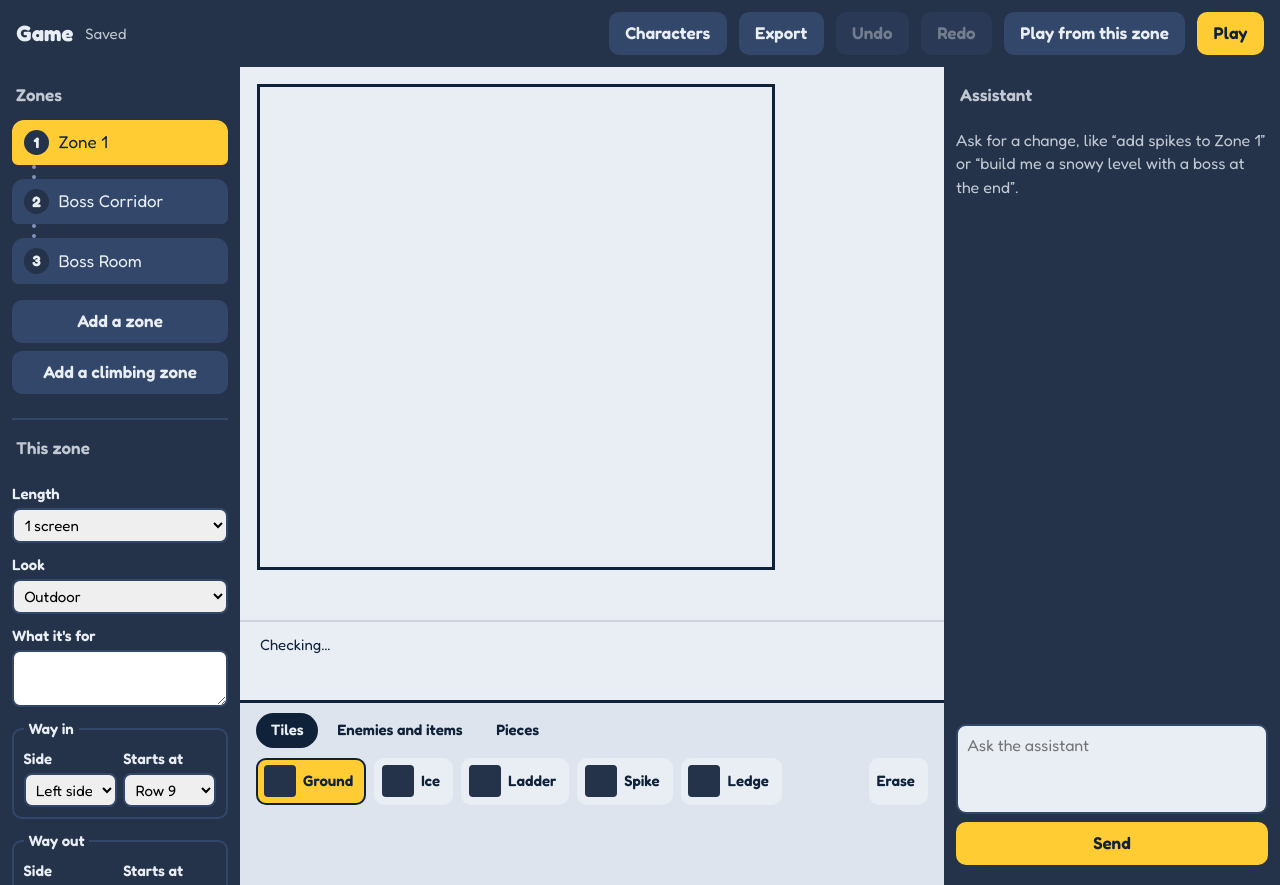
Scenario: the save status tells the truth › goes back to Saved when a change is undone before it is saved
Click the button "Add a zone" at (120,321), box [12, 300, 228, 343]
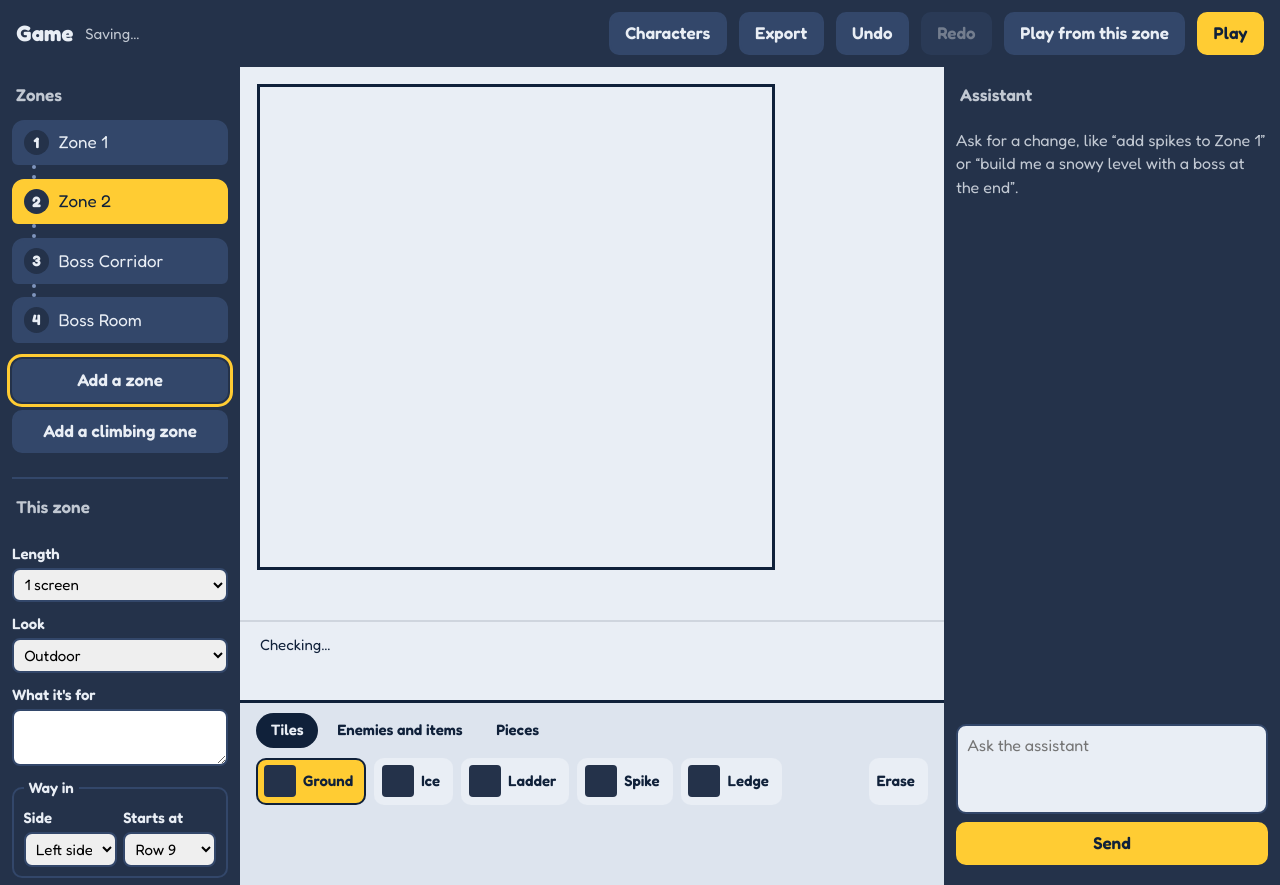
Check: the text "Saving…" is shown, box [85, 23, 139, 44]
Click the button "Undo" at (872,34), box [836, 12, 909, 55]
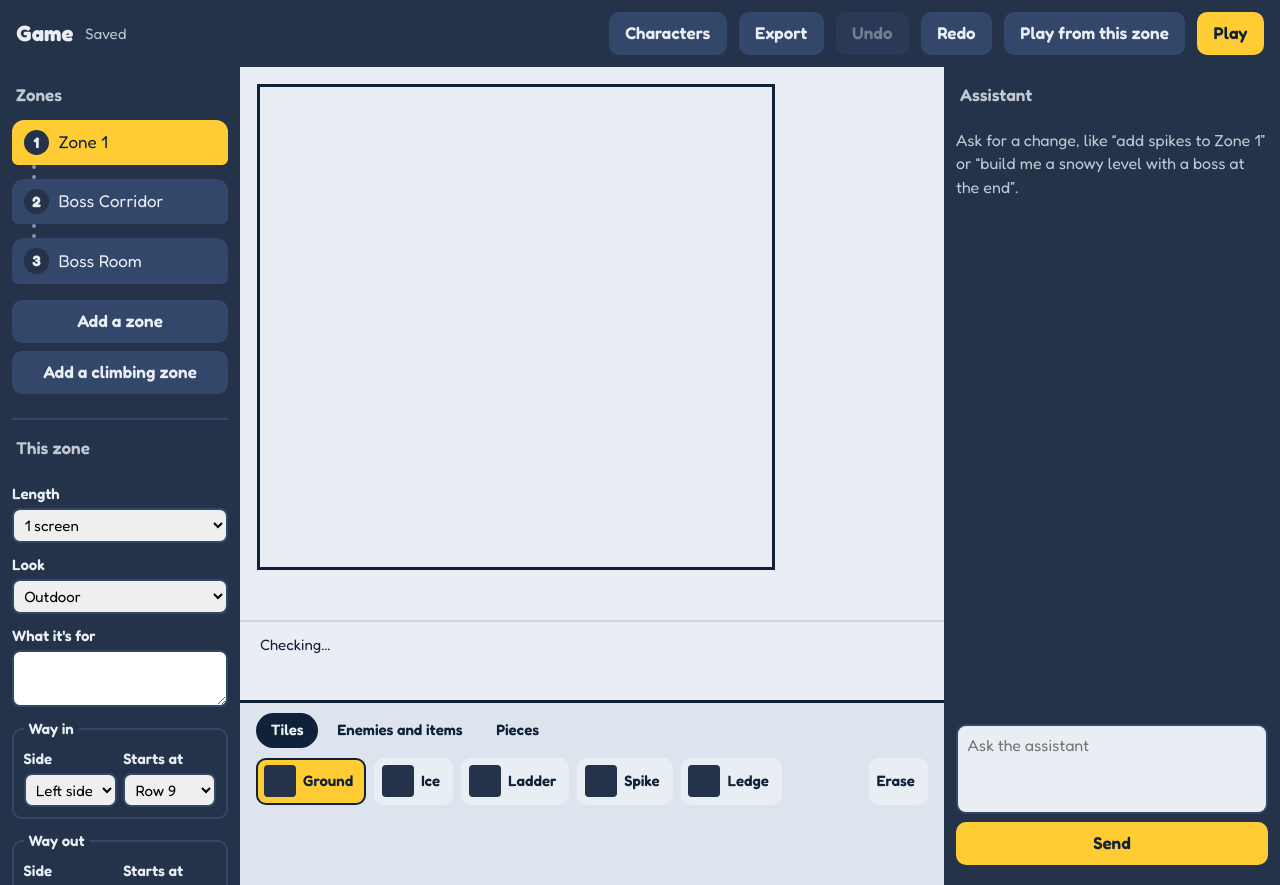
Check: the text "Saved" is shown, box [85, 23, 126, 44]
